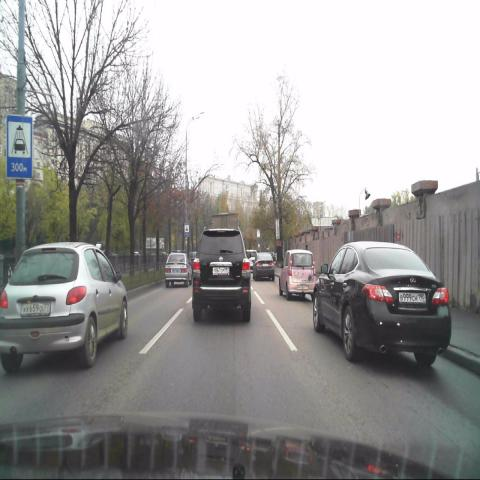7_5: (6, 114, 34, 178)
